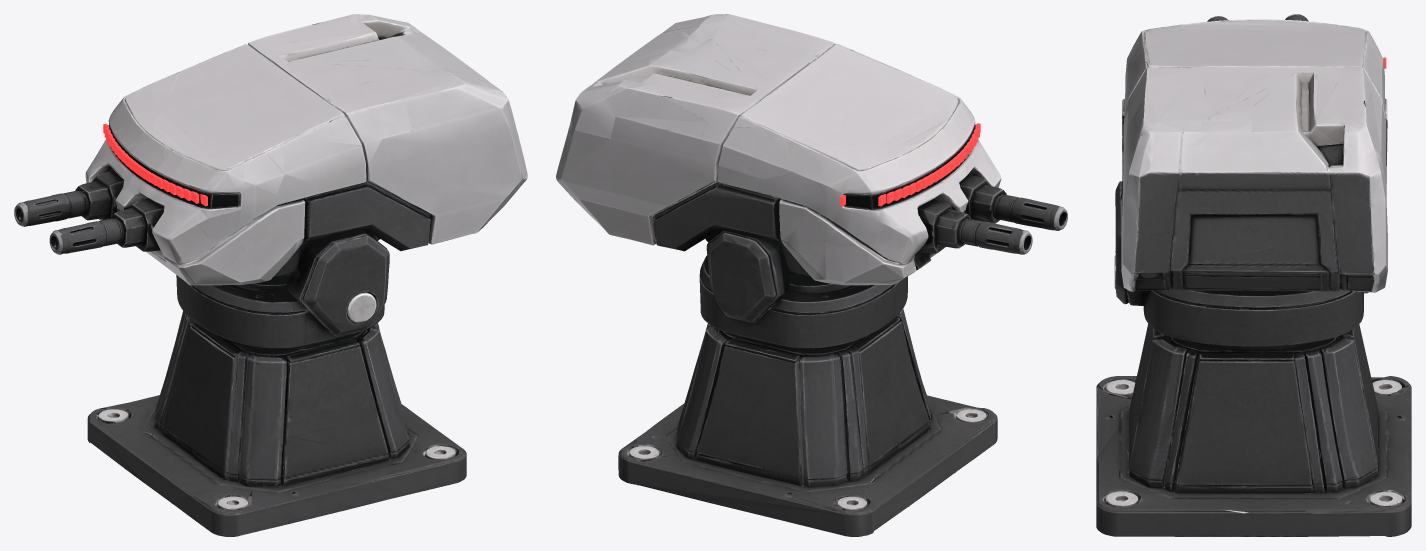
The model's file is turret.glb.
3 views of the same model, side by side, from view 1: azimuth 30°, elevation 25°; view 2: azimuth 150°, elevation 25°; view 3: azimuth 270°, elevation 25° (orthographic). The views are drawn at different scales.
Parts seen in each view (by area): view 1: output_unwrapped; view 2: output_unwrapped; view 3: output_unwrapped.
Part boxes in pixels (bbox=[...]): output_unwrapped: bbox=[14, 14, 527, 536]; output_unwrapped: bbox=[556, 14, 1067, 536]; output_unwrapped: bbox=[1096, 14, 1411, 536].
Bounding box in the file's own units: 1.58 × 1.3 × 0.8951.
Materials: 2 (1 with a texture image).
